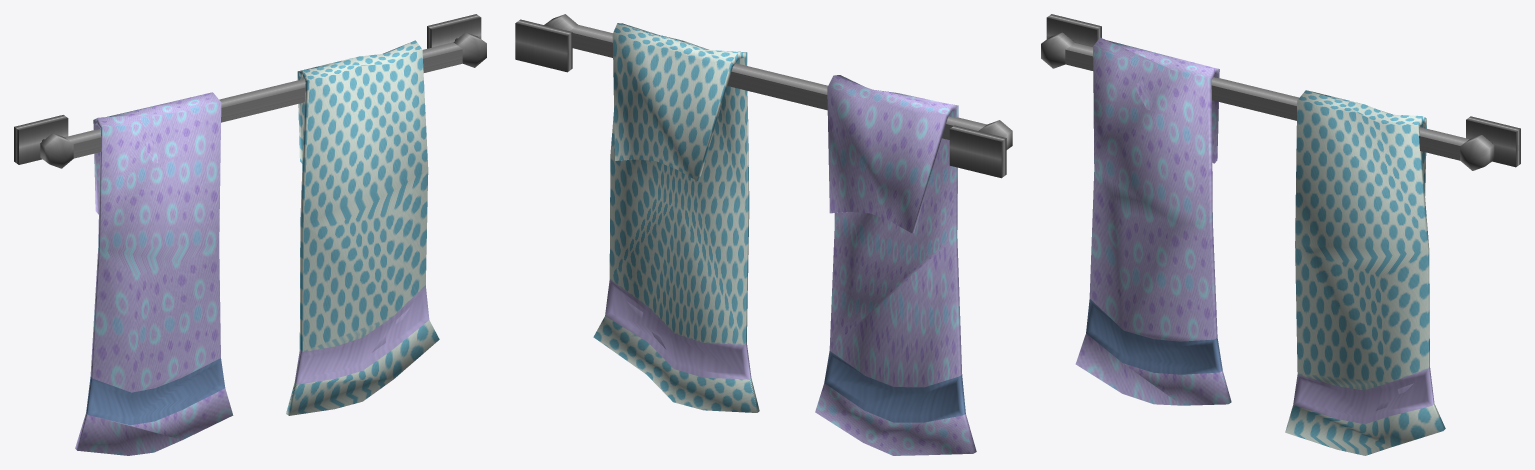
The model's file is Towel_Rack_04.FBX.
3 views of the same model, side by side, from view 1: azimuth 30°, elevation 25°; view 2: azimuth 150°, elevation 25°; view 3: azimuth 330°, elevation 25° (orthographic). The views are drawn at different scales.
Parts seen in each view (by area): view 1: Towel_Rack; view 2: Towel_Rack; view 3: Towel_Rack.
Boxes of the visible parts, <box> form: Towel_Rack: <box>14,14,486,455</box>; Towel_Rack: <box>515,14,1012,455</box>; Towel_Rack: <box>1041,14,1520,455</box>.
Size of the model in its own units: 174 by 125 by 19.24.
